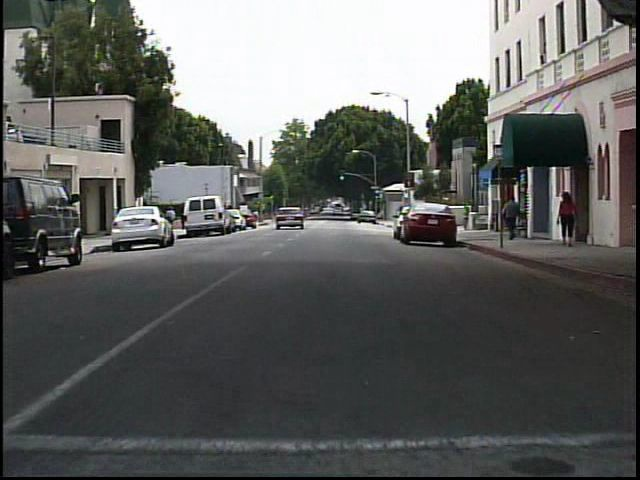person: (553, 189, 579, 248), (499, 191, 525, 241), (162, 201, 180, 235)
